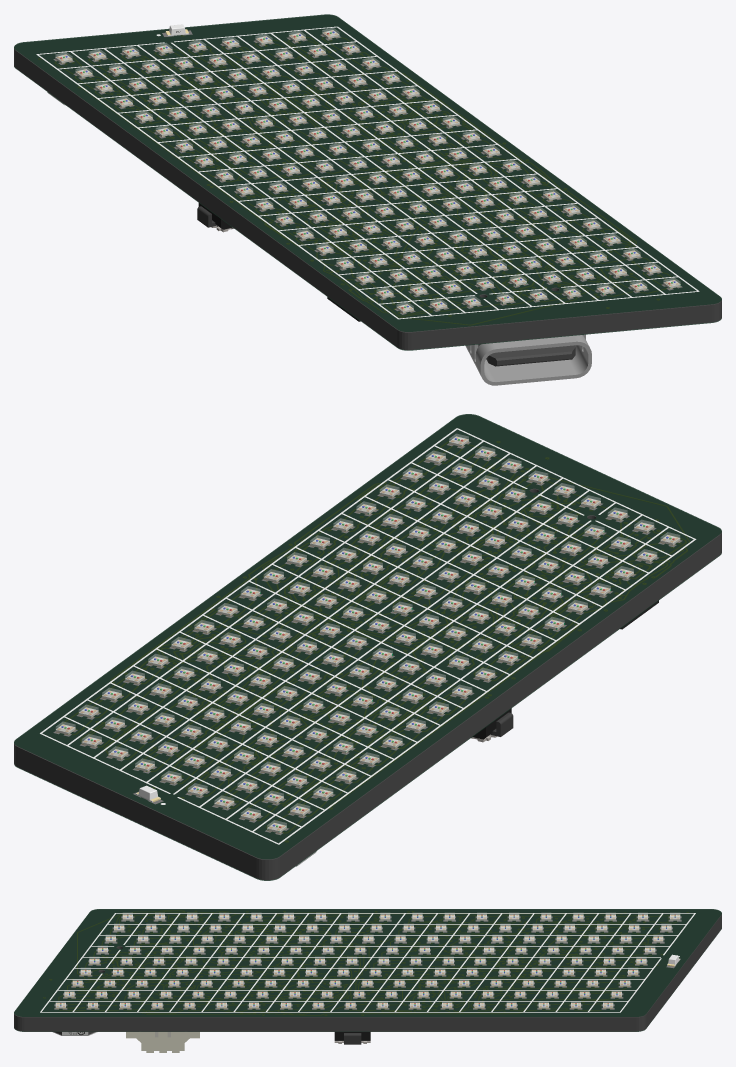
The model's file is board.glb.
3 renders of one model, top to bottom at view 1: azimuth 30°, elevation 25°; view 2: azimuth 150°, elevation 25°; view 3: azimuth 270°, elevation 25°, orthographic. The views are drawn at different scales.
Visible parts, largest first — view 1: parallelogram_soldermask (×2), parallelogram_PCB, parallelogram_silkscreen, parallelogram_pad, USB-C-SMD_TYPE-C-31-M-22, parallelogram_copper; view 2: parallelogram_soldermask (×2), parallelogram_PCB, parallelogram_silkscreen, parallelogram_copper, parallelogram_pad; view 3: parallelogram_soldermask (×2), parallelogram_PCB, parallelogram_silkscreen, parallelogram_pad, parallelogram_copper, Molex_PicoBlade_53261-0271_1x02-1MP_P1.25mm_Horizontal, SW-SMD_EVQP7C01P-L3.6-W3.5-H1.4-P3.6-LS4.7.
Boxes of the visible parts, x1,y1,x2,y2 form: parallelogram_soldermask (×2): (14,14,721,350); parallelogram_PCB: (14,15,721,350); parallelogram_silkscreen: (36,26,699,319); parallelogram_pad: (53,30,682,314); USB-C-SMD_TYPE-C-31-M-22: (465,334,591,385); parallelogram_copper: (38,35,670,324); parallelogram_soldermask (×2): (14,414,721,880); parallelogram_PCB: (14,415,721,880); parallelogram_silkscreen: (40,428,696,844); parallelogram_copper: (65,441,689,841); parallelogram_pad: (53,441,682,835); parallelogram_soldermask (×2): (14,909,721,1031); parallelogram_PCB: (14,910,721,1031); parallelogram_silkscreen: (40,913,695,1012); parallelogram_pad: (54,916,681,1009); parallelogram_copper: (60,911,675,1015); Molex_PicoBlade_53261-0271_1x02-1MP_P1.25mm_Horizontal: (126,1032,199,1052); SW-SMD_EVQP7C01P-L3.6-W3.5-H1.4-P3.6-LS4.7: (334,1032,370,1044).
Size of the model in its own units: 0.0259 by 0.00568 by 0.0693.
